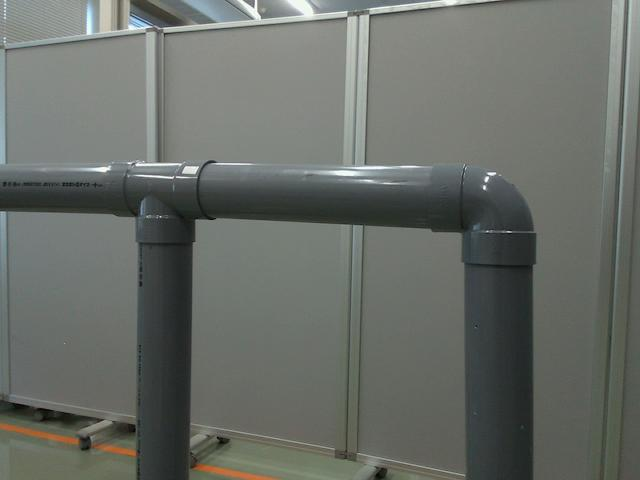bent: (422, 160, 538, 270)
junction: (102, 158, 218, 246)
